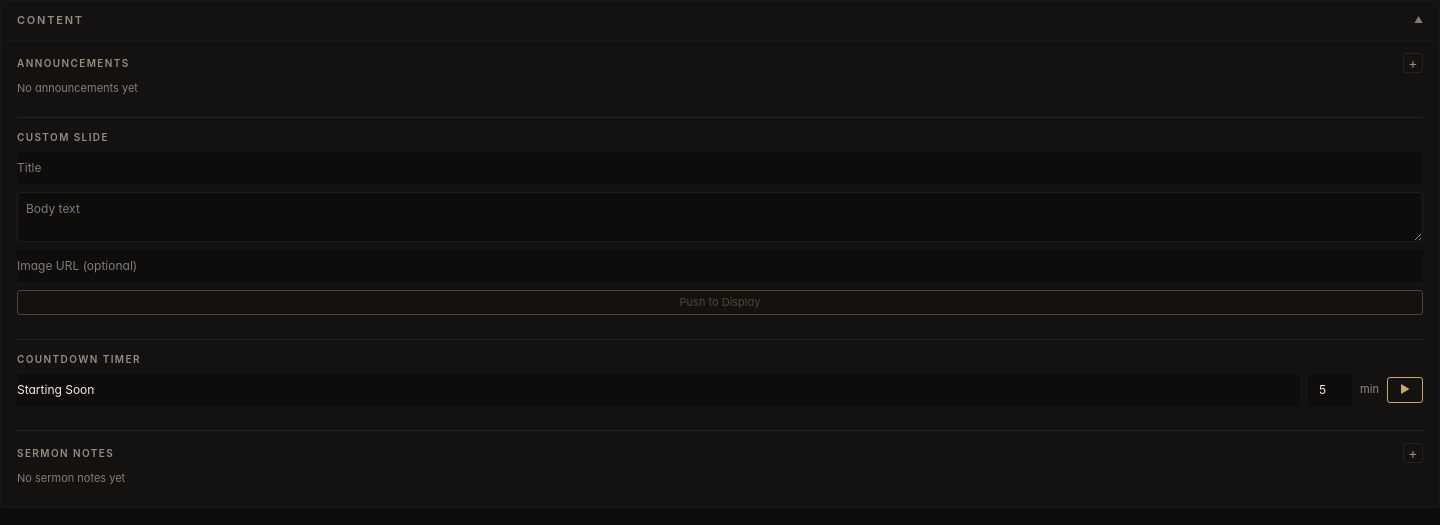
Test: ContentPanel › enables Custom Slide push button when body has text
Type "Test body" into the text box with placeholder "Body text" at (720, 217), box [17,192,1423,242]
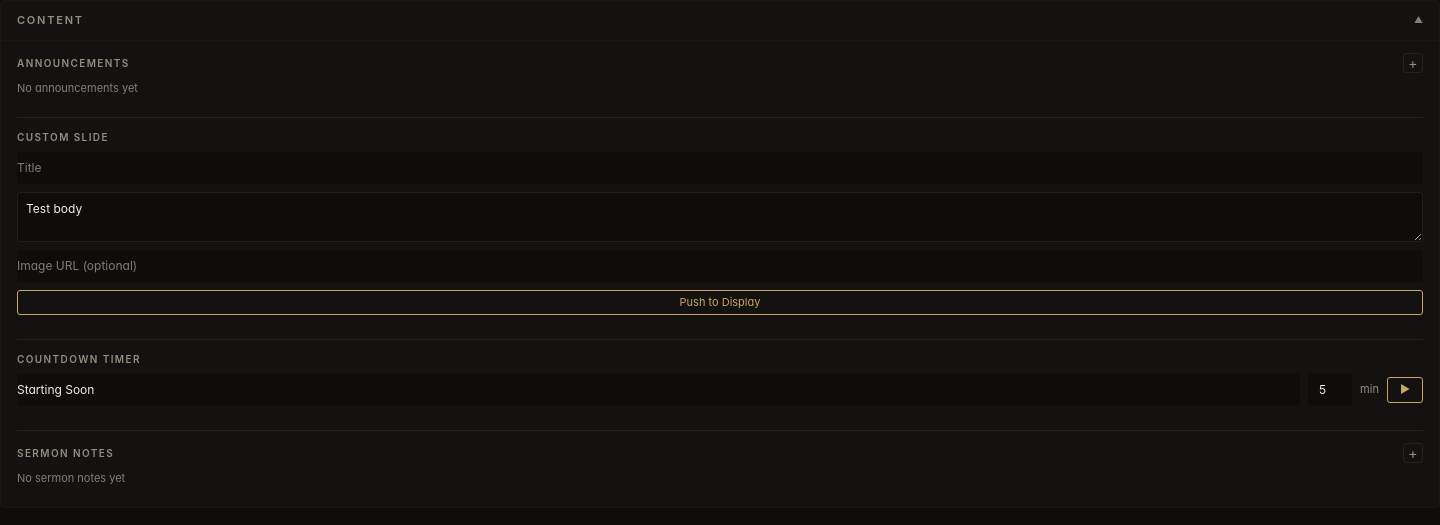
Expected: the button "Push to Display" is enabled, [17,290,1423,315]
